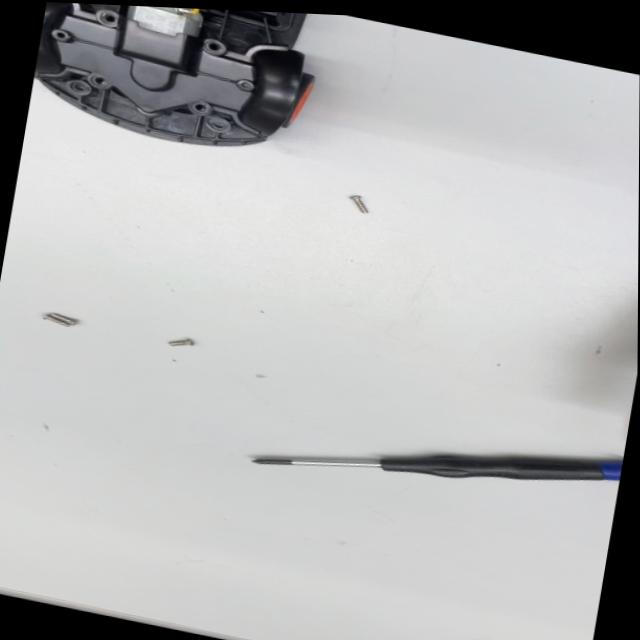screw: (338, 184, 381, 226), (39, 305, 88, 337), (154, 327, 201, 353)
screw_driver: (301, 399, 614, 522)
